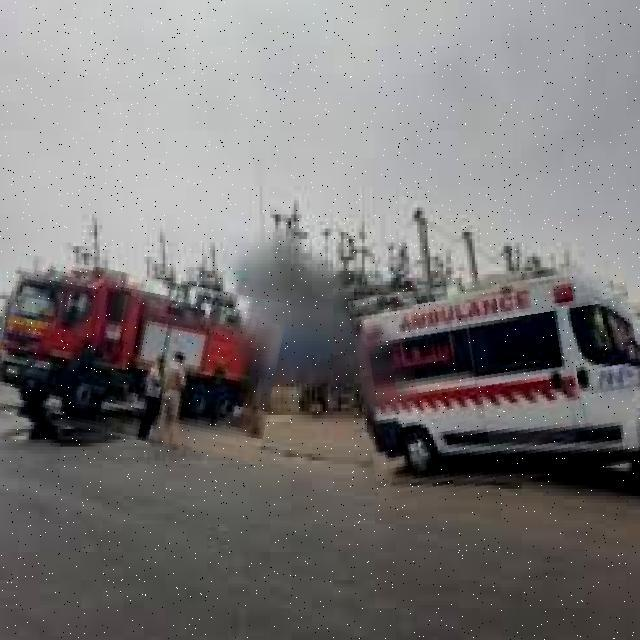ambulance: (355, 268, 640, 492)
pompier: (0, 264, 281, 451)
